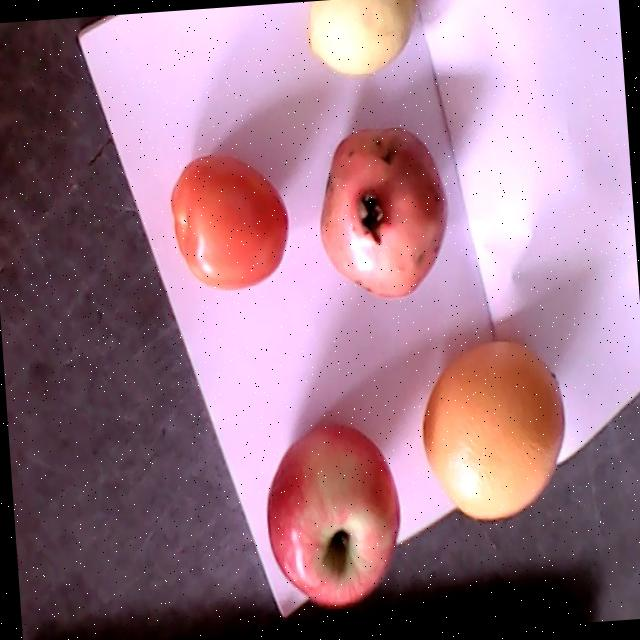apple: (266, 423, 398, 604)
lemon: (307, 0, 417, 73)
orange: (421, 338, 563, 518)
pomegranate: (319, 128, 447, 296)
tomato: (169, 154, 288, 289)
